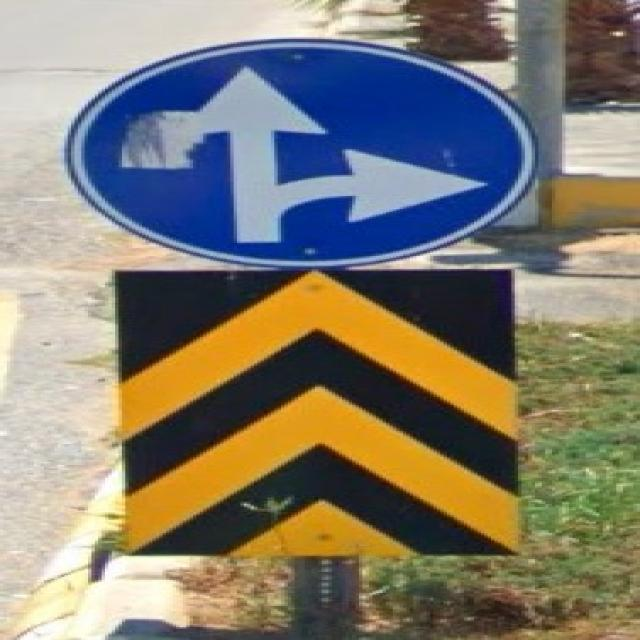Straight or Right: (64, 41, 518, 263)
